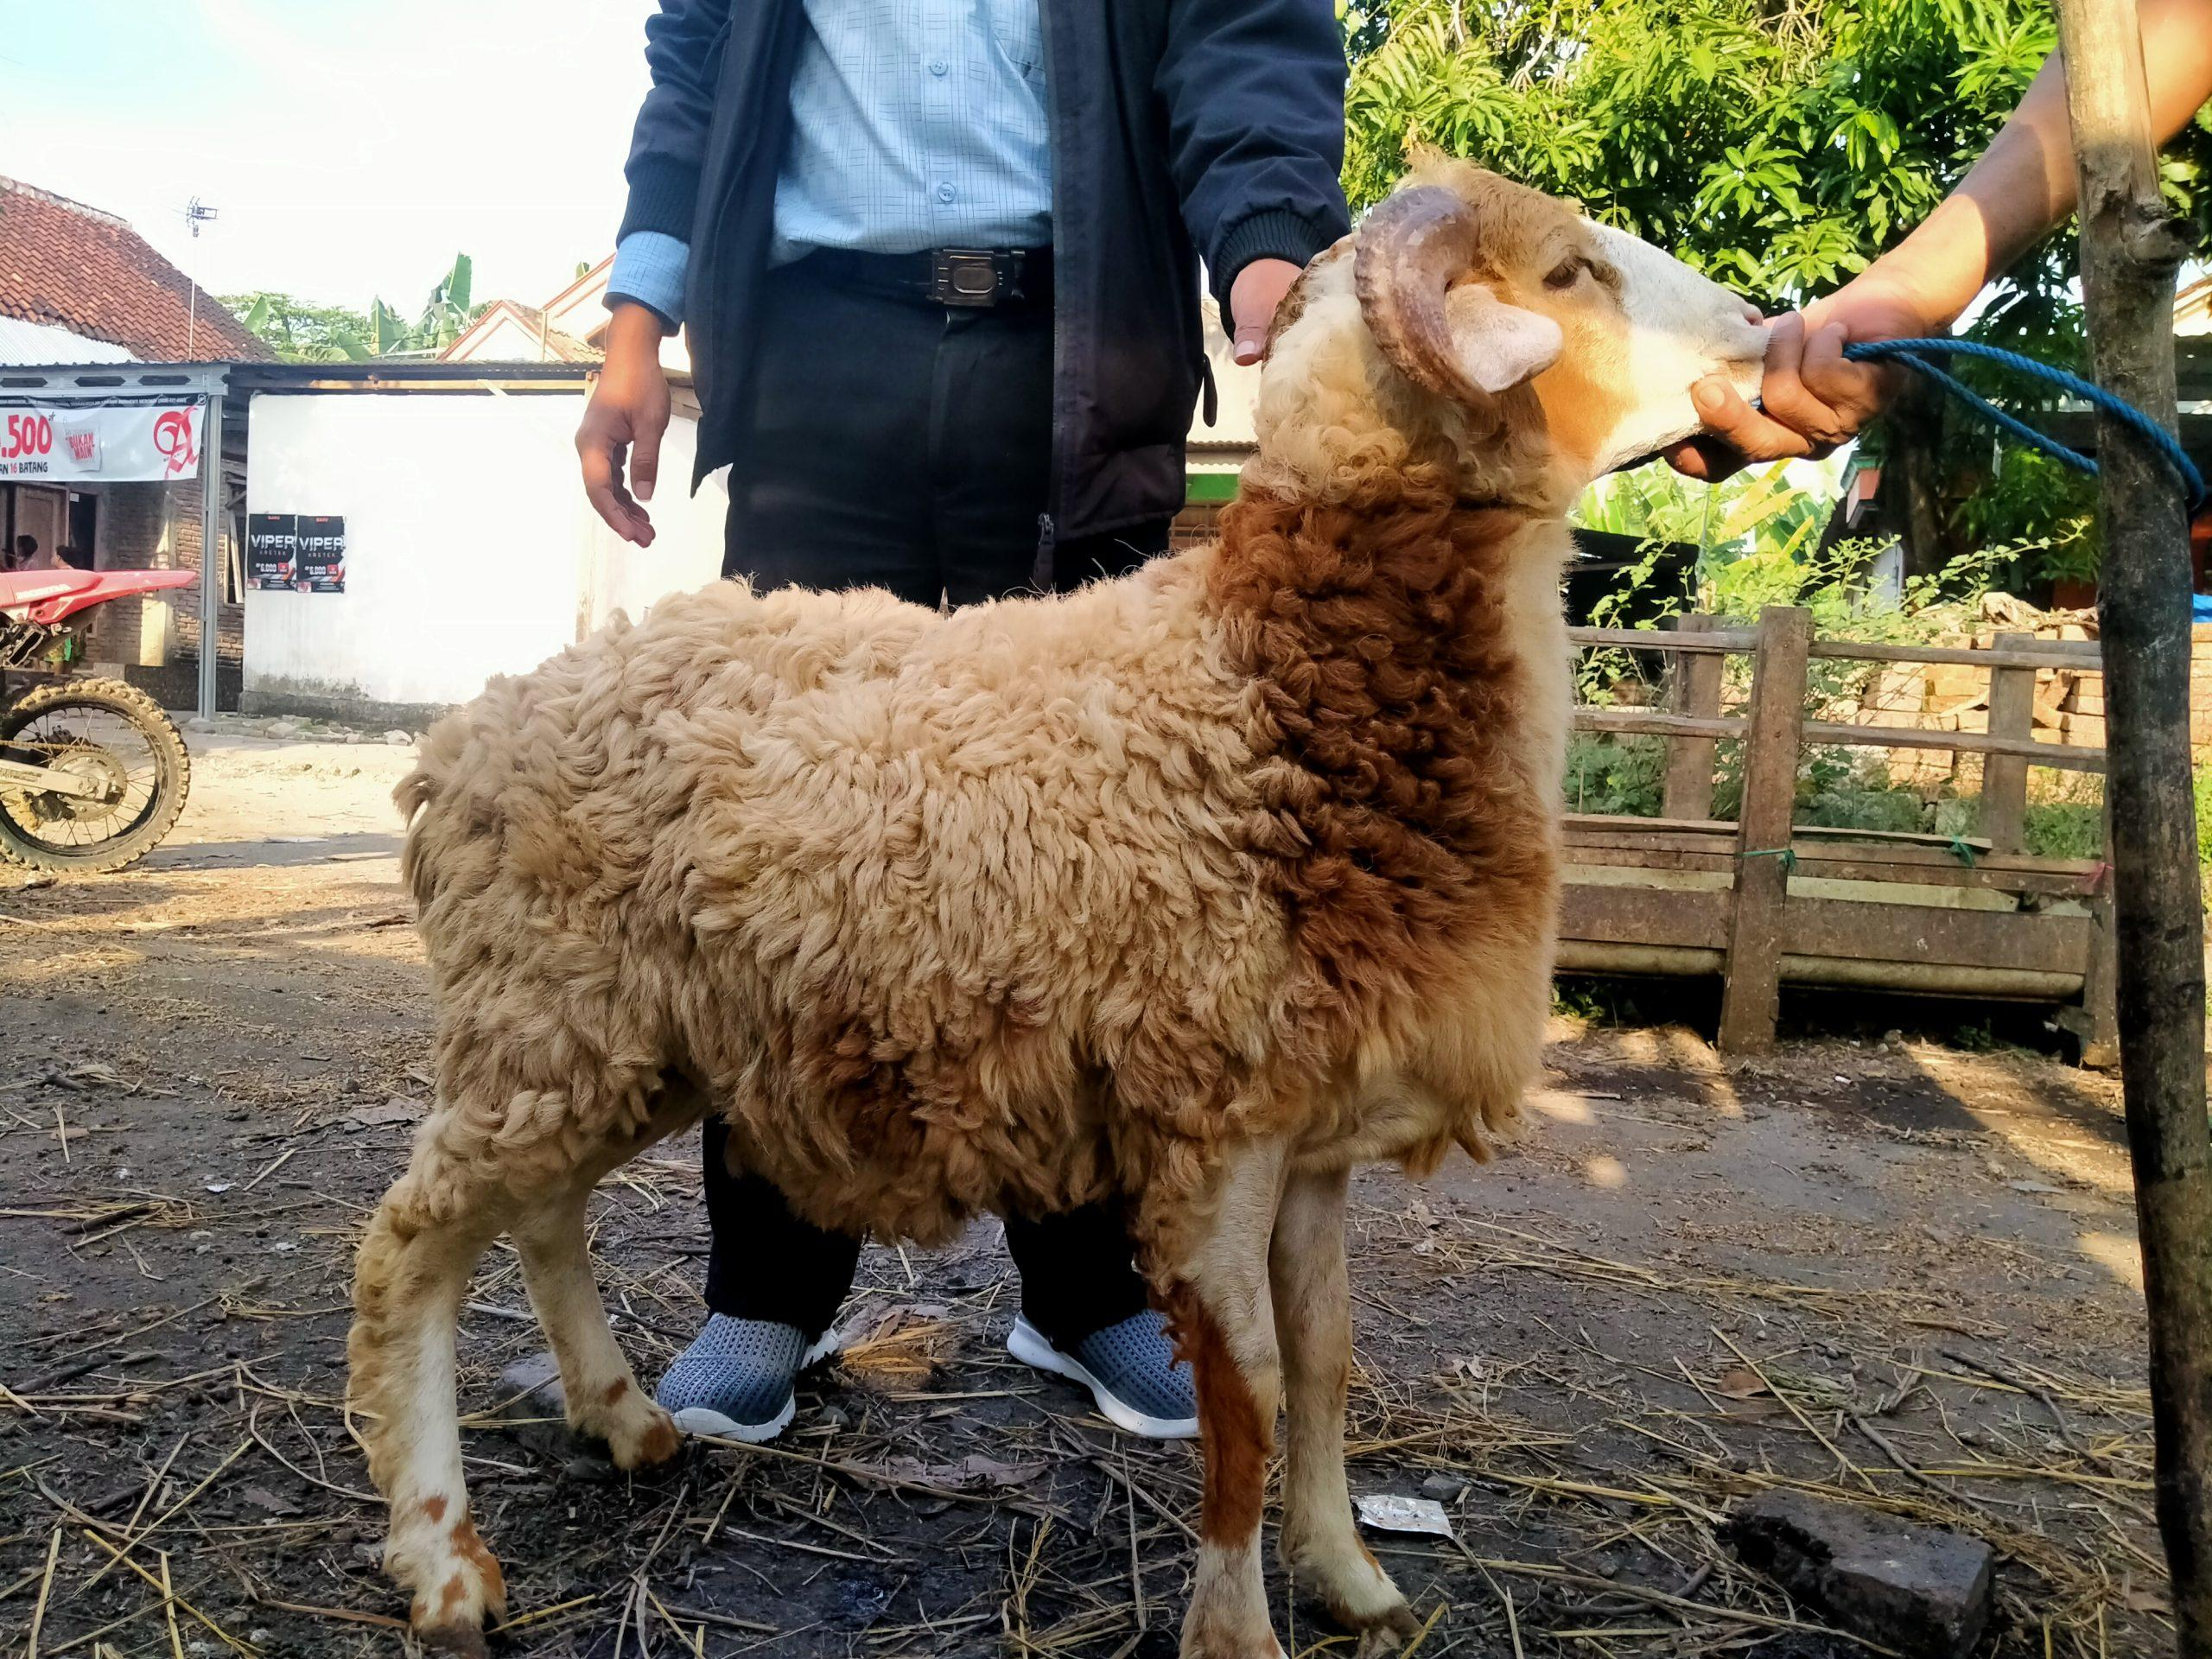Sheep: (1234, 88, 1827, 605)
